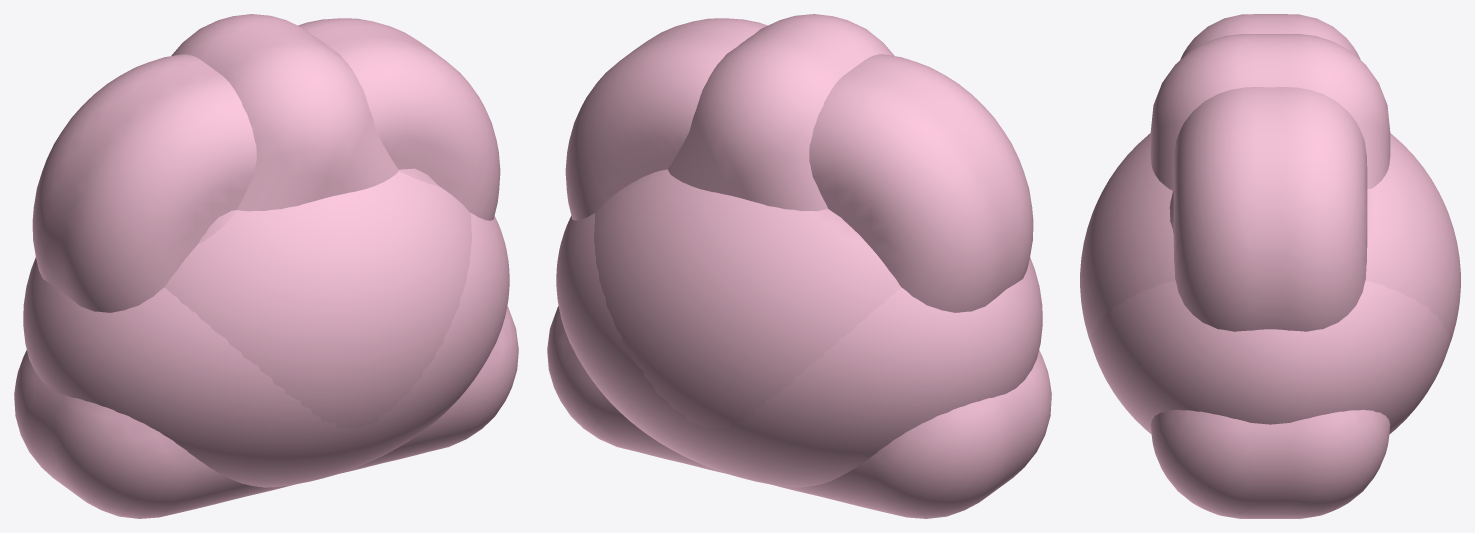
File: bodies.glb
3 views of the same model, side by side, from view 1: azimuth 30°, elevation 25°; view 2: azimuth 150°, elevation 25°; view 3: azimuth 270°, elevation 25° (orthographic). The views are drawn at different scales.
Visible parts, largest first — view 1: body_coco, body_mochi, body_pico, body_kiwi; view 2: body_coco, body_mochi, body_pico, body_kiwi; view 3: body_coco, body_pico, body_kiwi, body_mochi.
Part boxes in pixels (bbox=[...]): body_coco: bbox=[32, 18, 500, 312]; body_mochi: bbox=[164, 171, 471, 428]; body_pico: bbox=[14, 14, 518, 518]; body_kiwi: bbox=[23, 168, 509, 487]; body_coco: bbox=[565, 18, 1033, 312]; body_mochi: bbox=[594, 169, 901, 428]; body_pico: bbox=[547, 14, 1051, 518]; body_kiwi: bbox=[556, 213, 1042, 487]; body_coco: bbox=[1173, 14, 1367, 331]; body_pico: bbox=[1150, 34, 1390, 518]; body_kiwi: bbox=[1091, 190, 1449, 434]; body_mochi: bbox=[1080, 133, 1460, 345].
Size of the model in its own units: 1.2 by 1.1 by 0.9386.
